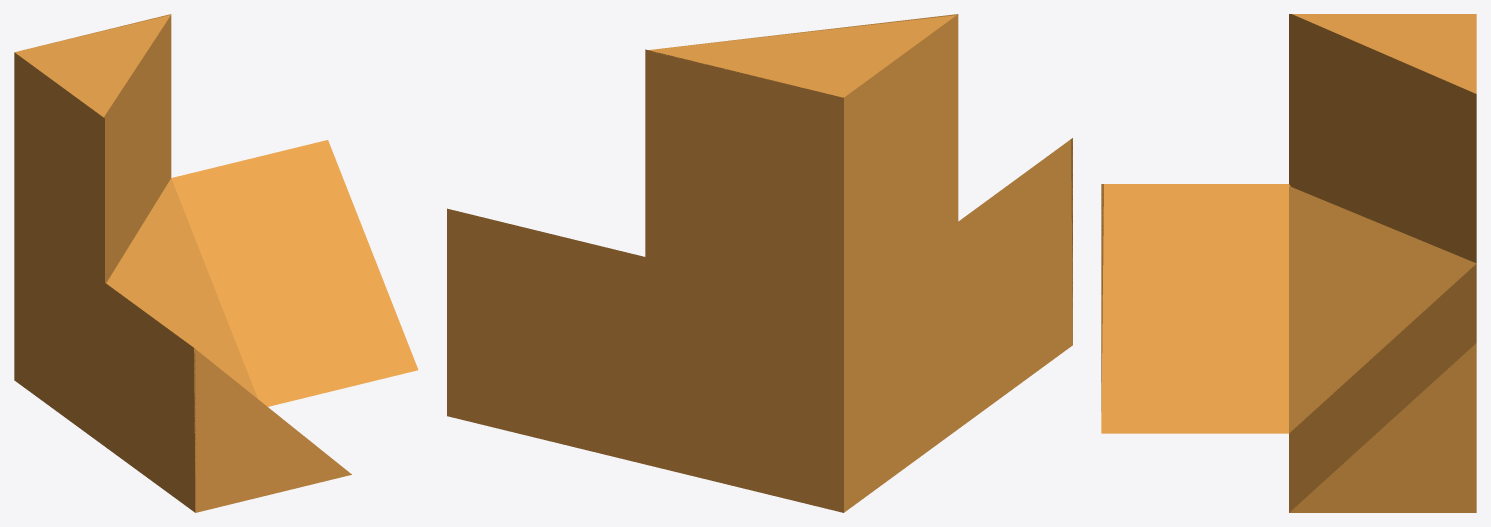
Rendered from r5c5_body_orange.gltf.
3 views of the same model, side by side, from view 1: azimuth 30°, elevation 25°; view 2: azimuth 150°, elevation 25°; view 3: azimuth 270°, elevation 25° (orthographic). The views are drawn at different scales.
Visible parts, largest first — view 1: r5c5_body_orange; view 2: r5c5_body_orange; view 3: r5c5_body_orange.
Part boxes in pixels (x1=…): r5c5_body_orange: x1=14, y1=14, x2=418, y2=512; r5c5_body_orange: x1=447, y1=14, x2=1072, y2=512; r5c5_body_orange: x1=1101, y1=14, x2=1476, y2=512.
Size of what is drawn, in the model's own units: 2 by 2 by 2.
1 material, 1 textured.
